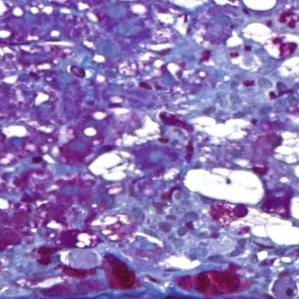ballooning: (86, 148, 138, 183)
steatosis: (182, 164, 266, 208)
